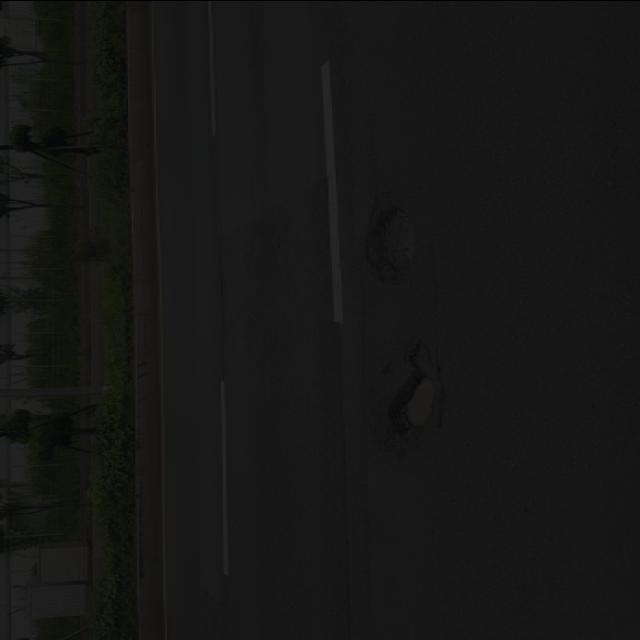pothole: (352, 363, 472, 437), (348, 195, 438, 286)
